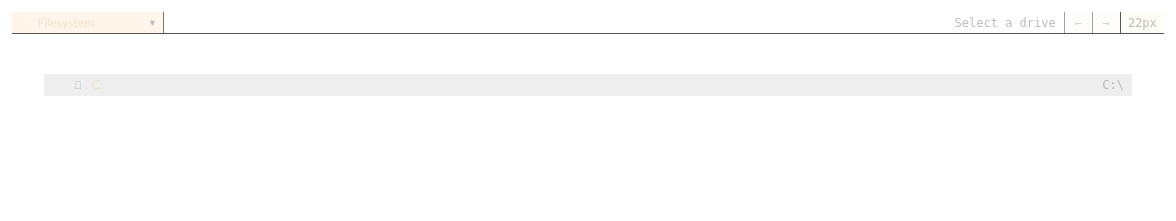
Scenario: FilesystemPanel › uses breadcrumbs to jump back to a parent path
Double-click the button "C: C:\\".
double_click(78, 85)  # box [44, 74, 1132, 96]
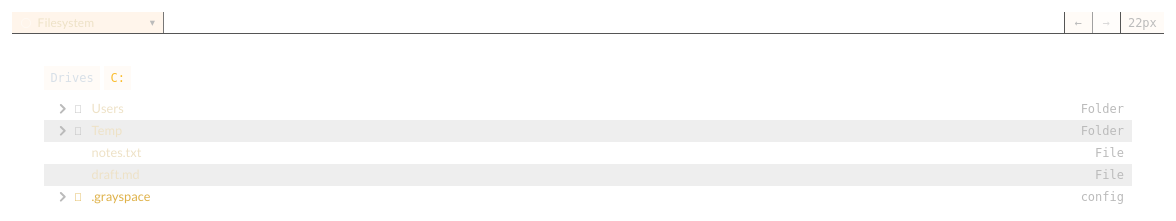
Double-click the button "Users Folder".
double_click(108, 109)  # box [44, 98, 1132, 120]
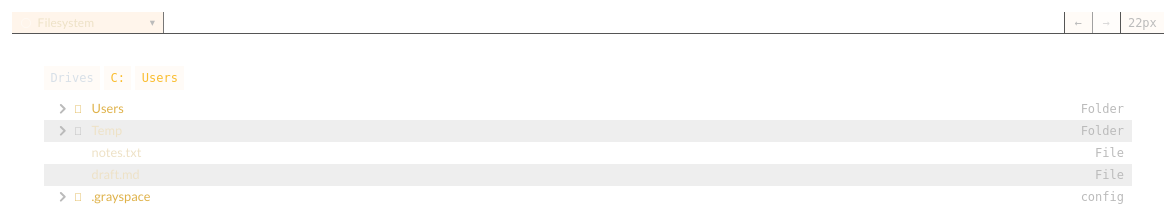
expect the button "Users Folder" is shown: met, box [44, 98, 1132, 120]
Click the button "Drives".
click(72, 78)  # box [44, 66, 100, 90]
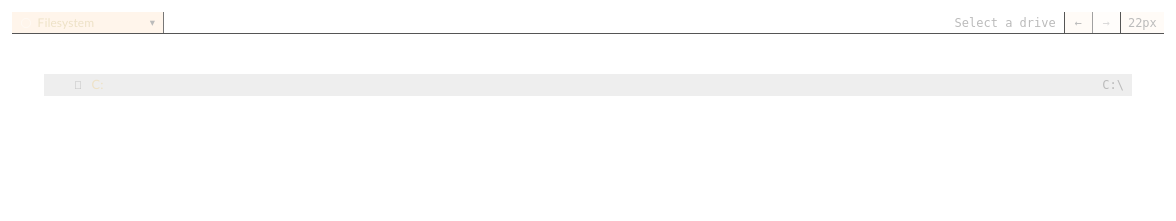
expect the text "Select a drive" is shown: met, box [955, 12, 1056, 33]
expect the text "C:" is shown: met, box [92, 76, 104, 92]
